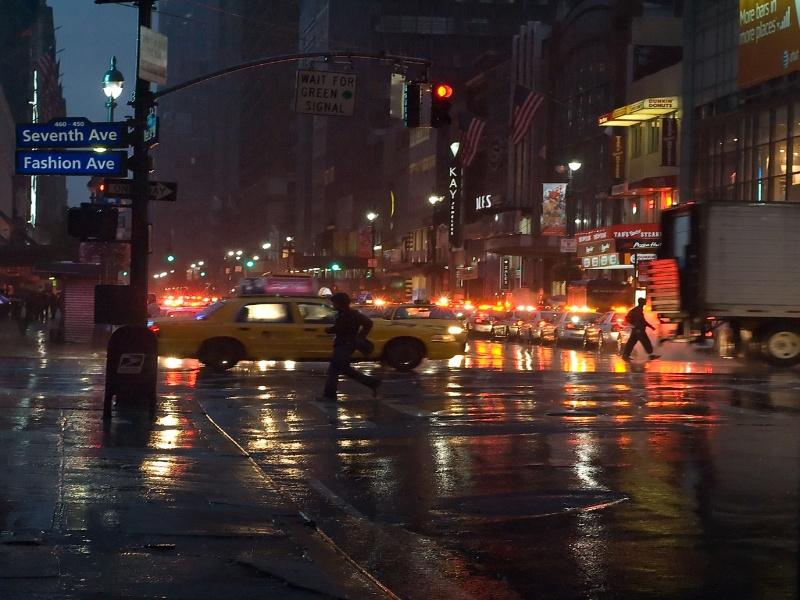yellow_light: (429, 79, 464, 113)
